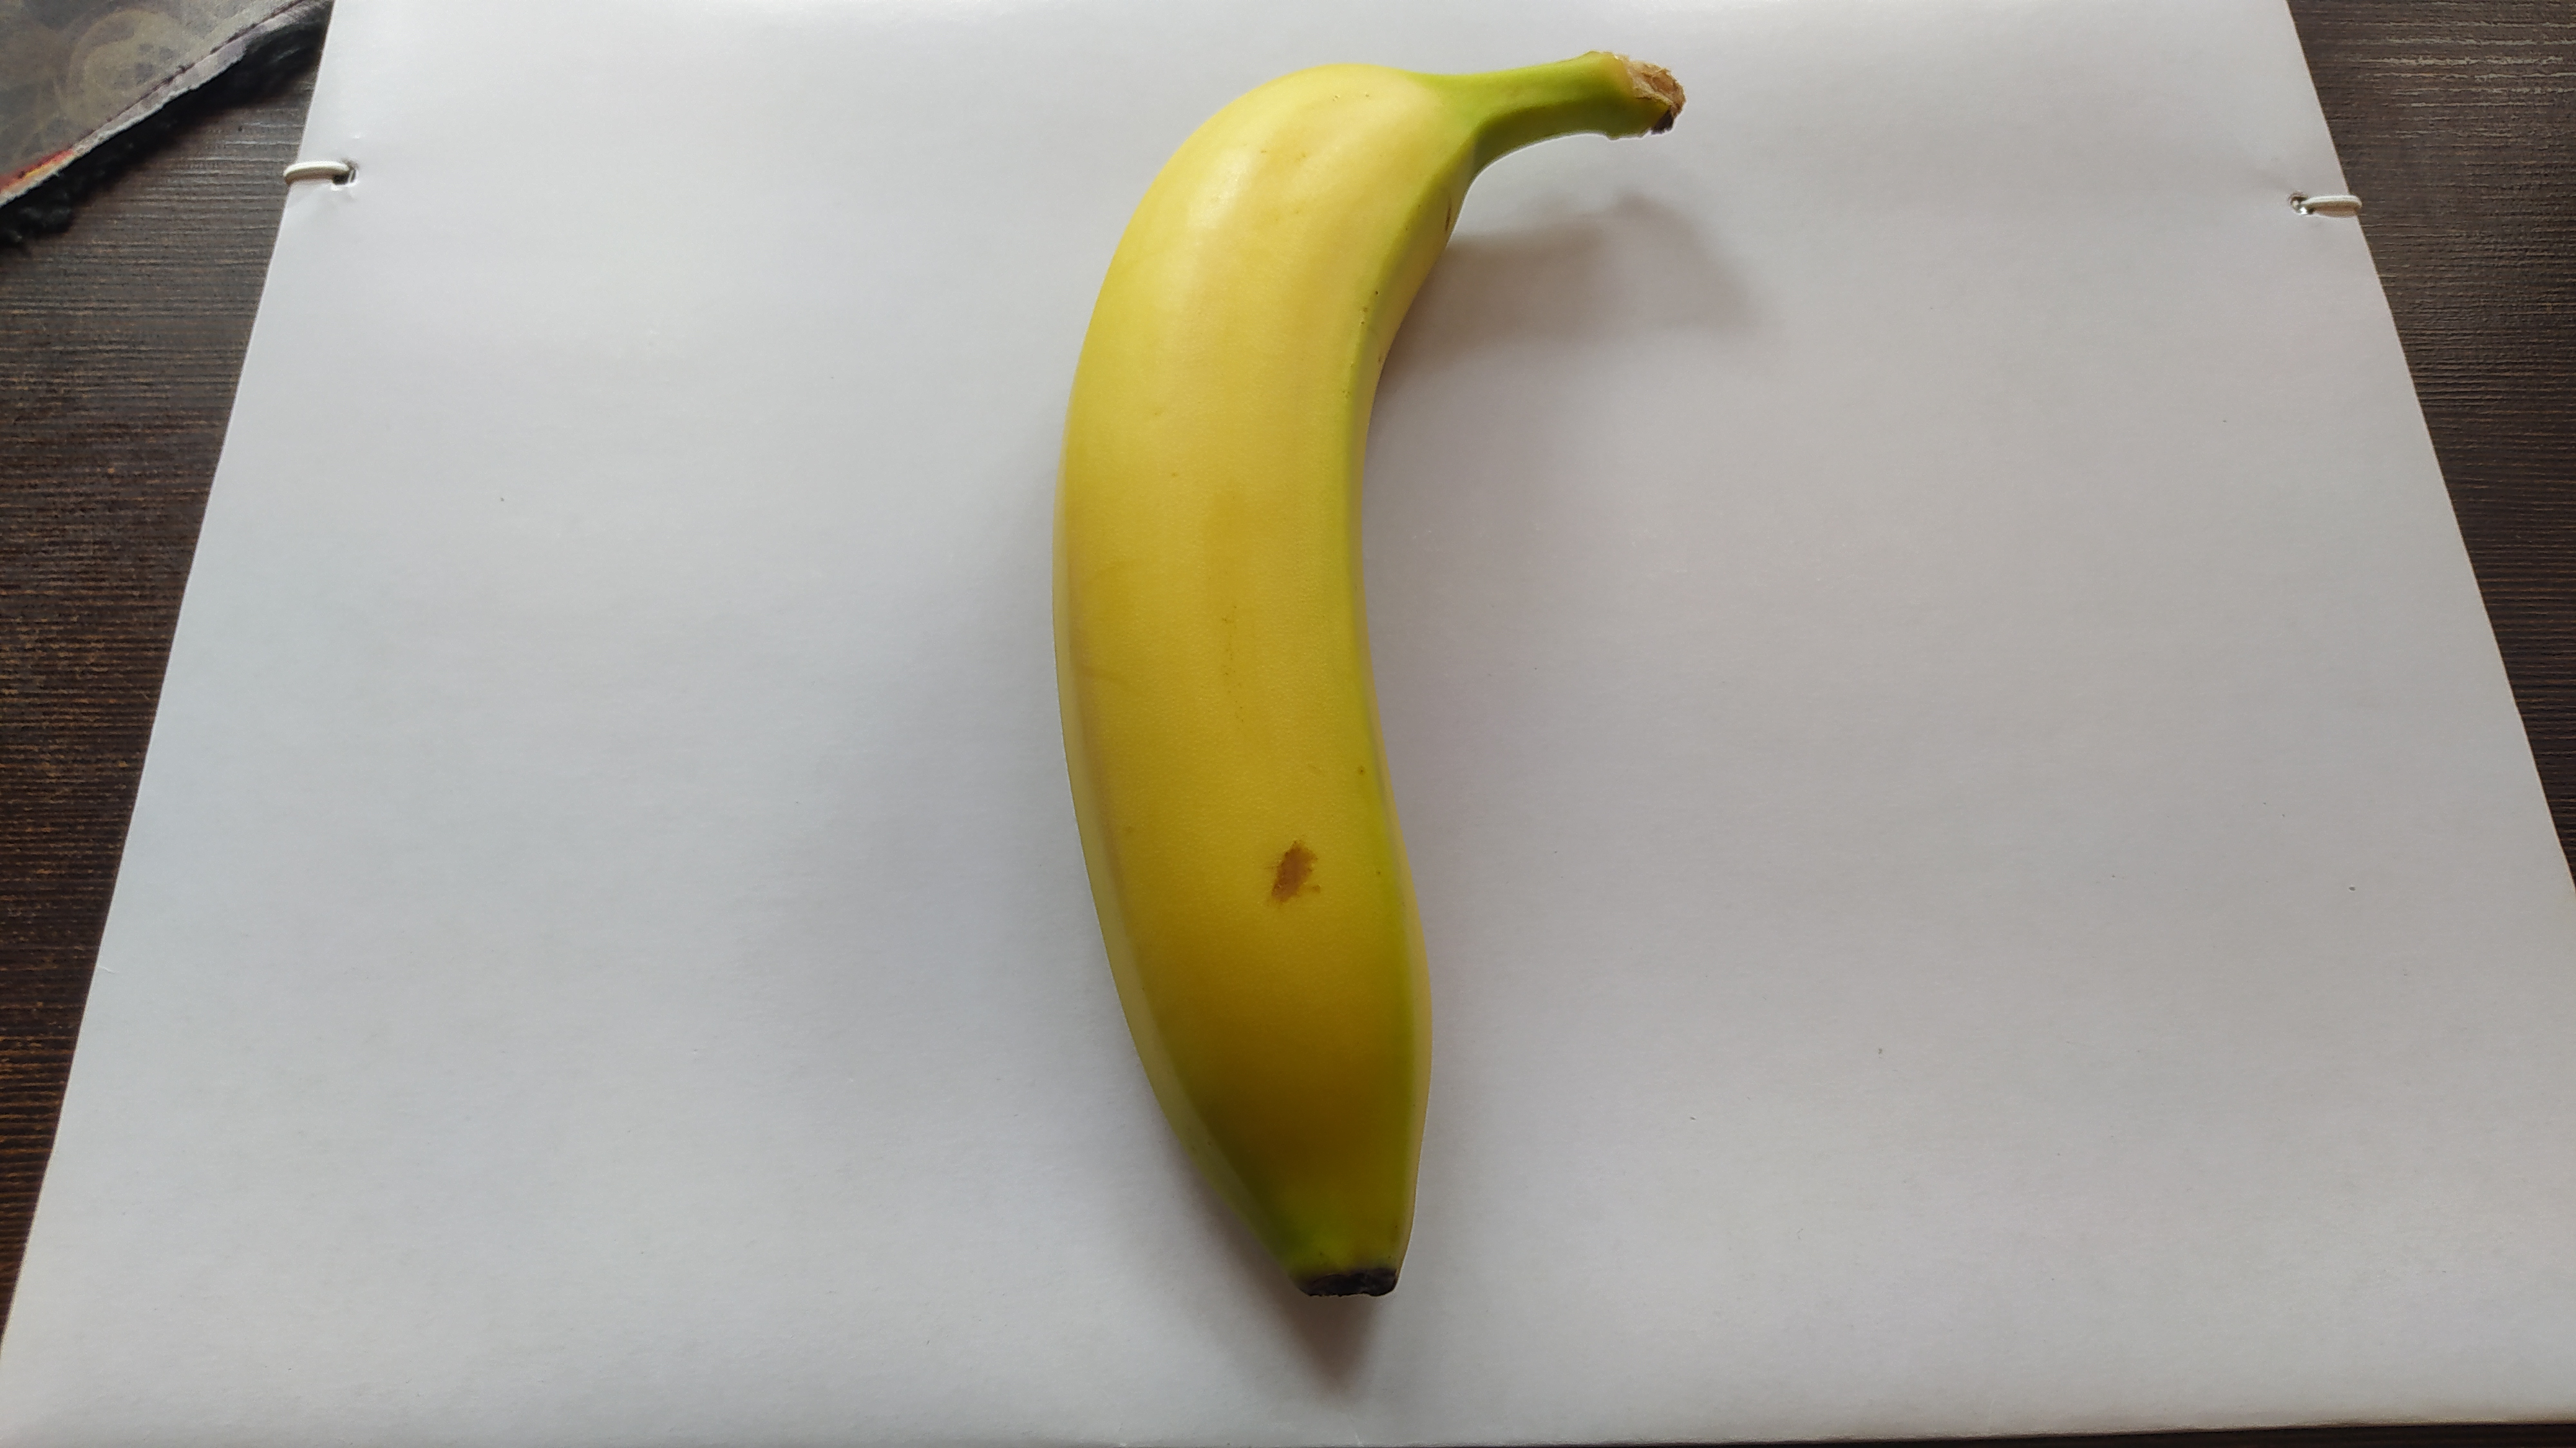banana: (1049, 51, 1686, 1299)
